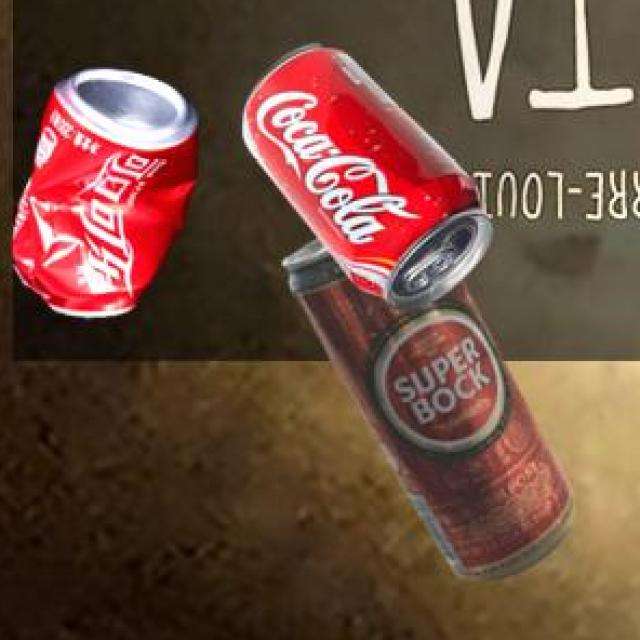logam: (286, 243, 578, 583), (245, 46, 496, 312), (16, 72, 200, 321)
